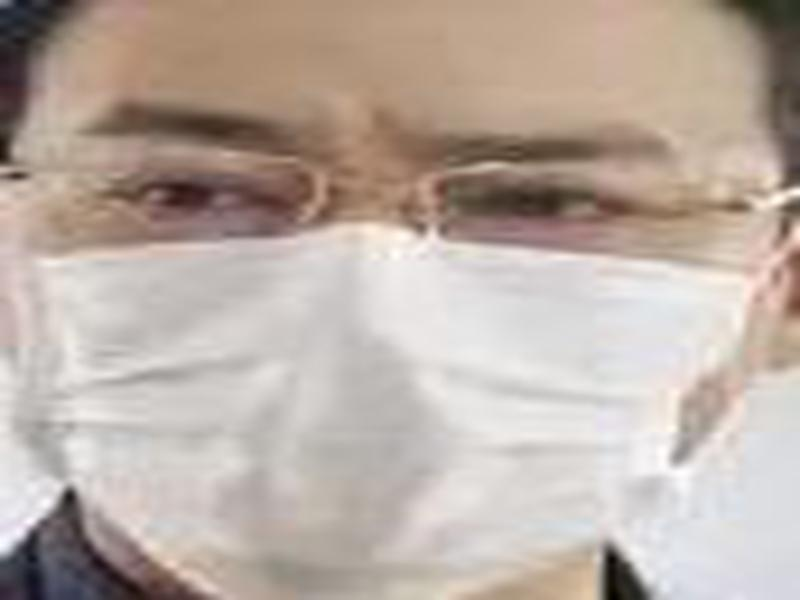with_mask: (3, 2, 800, 600)
